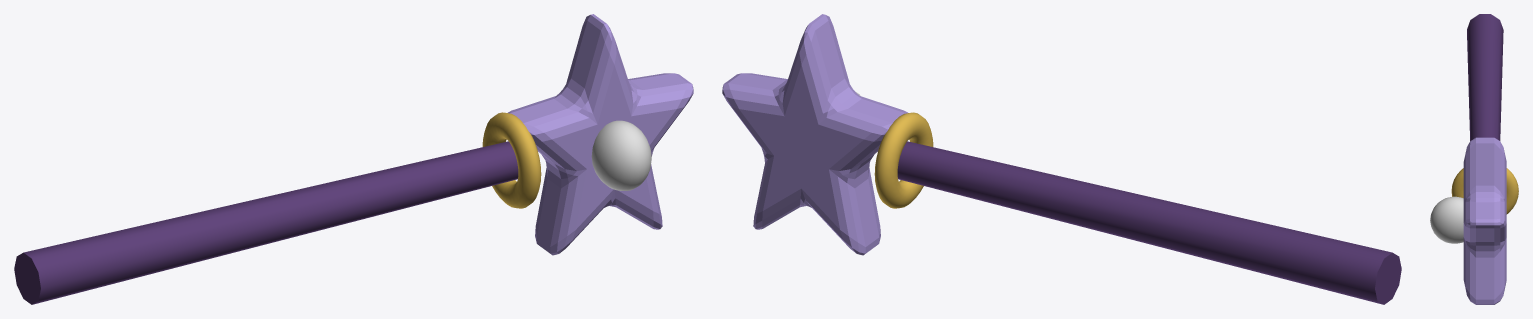
The model's file is wpn_glimmerwand.glb.
The picture shows the model from 3 angles, left to right: view 1: azimuth 30°, elevation 25°; view 2: azimuth 150°, elevation 25°; view 3: azimuth 270°, elevation 25°; orthographic projection. The views are drawn at different scales.
Bounding box in the file's own units: 1.06 × 0.3362 × 0.1813.
